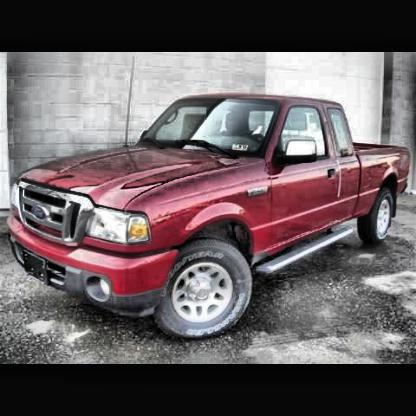Ford Ranger SuperCab 2011: (8, 97, 412, 338)
